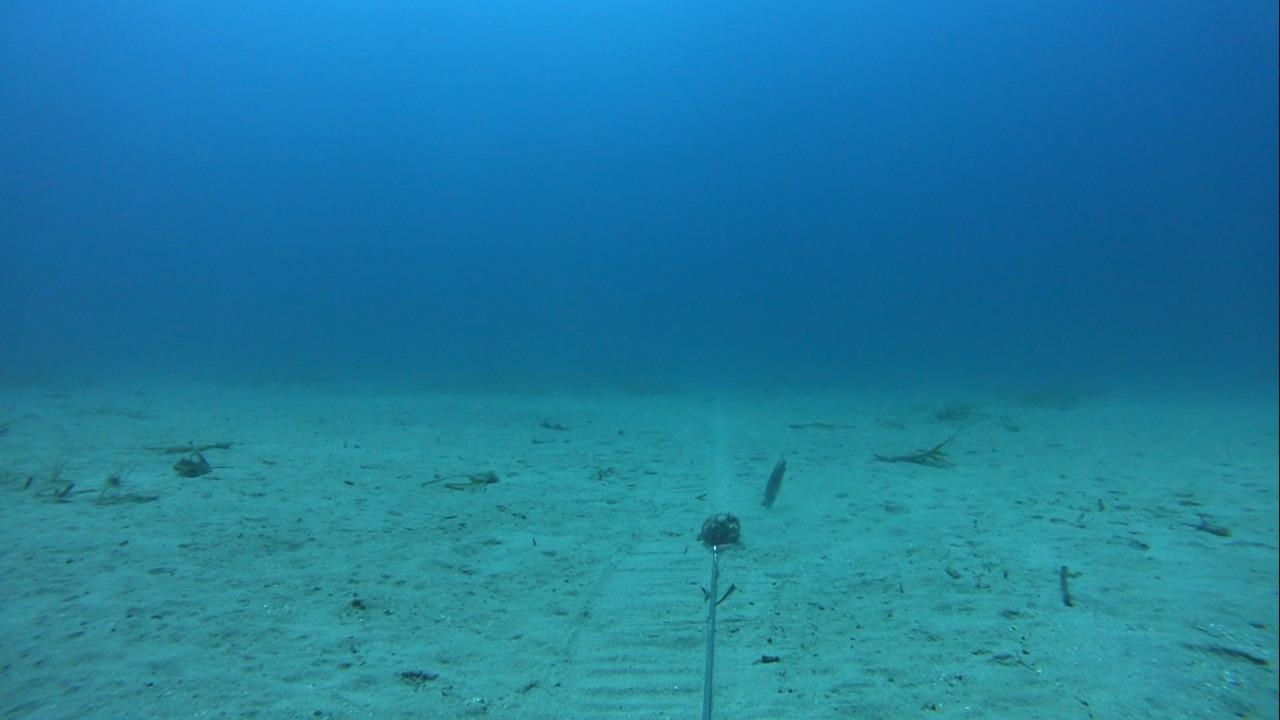raor: (754, 450, 795, 514)
